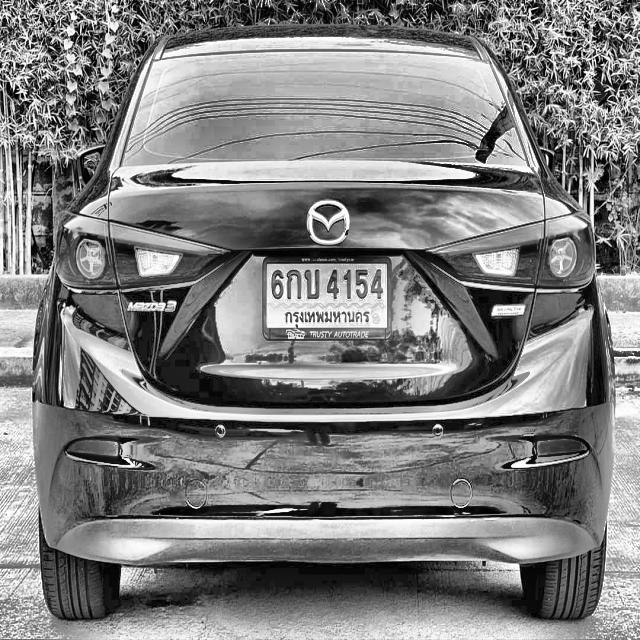license-plate: (263, 257, 390, 342)
